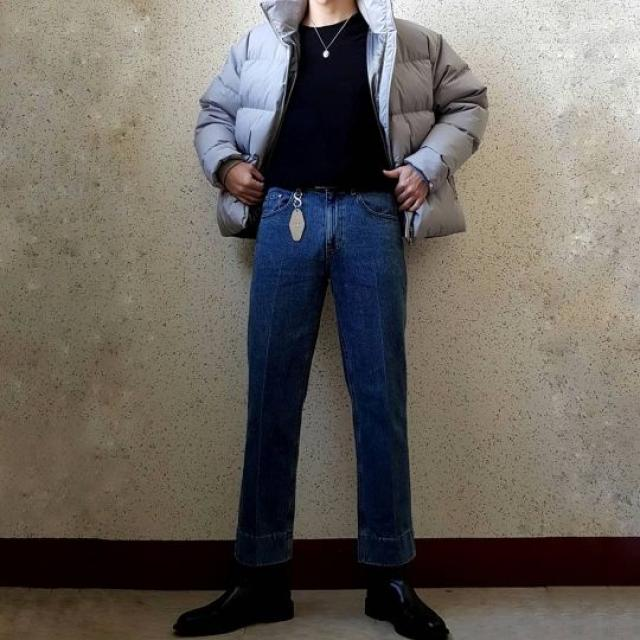denimpants: (232, 169, 418, 570)
padding: (193, 0, 491, 236)
